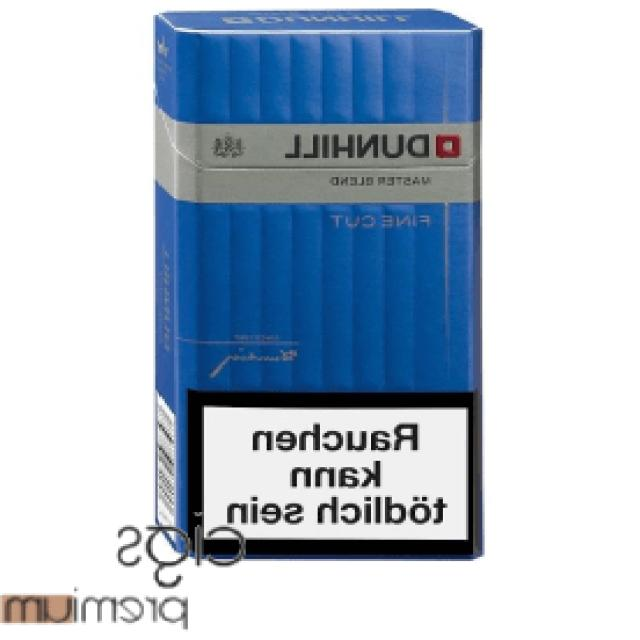dunhill: (142, 3, 493, 568)
